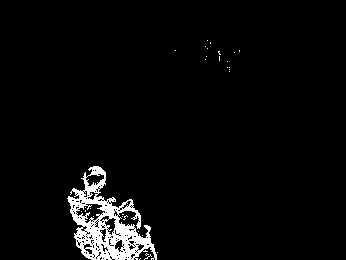person: (67, 164, 110, 260), (109, 210, 155, 260)
